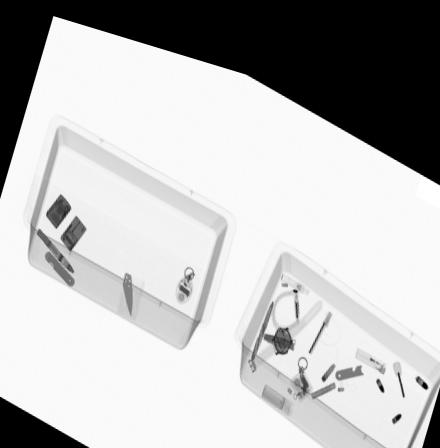Lighter: (352, 324, 386, 351)
